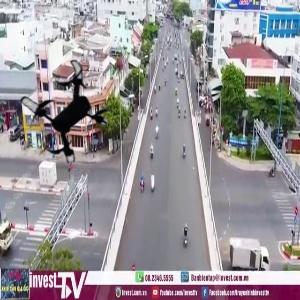drone: (12, 58, 117, 163)
